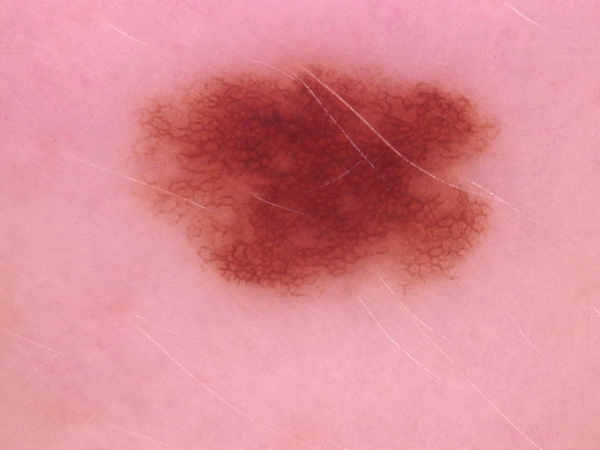Detected Lesion: (129, 64, 505, 298)
